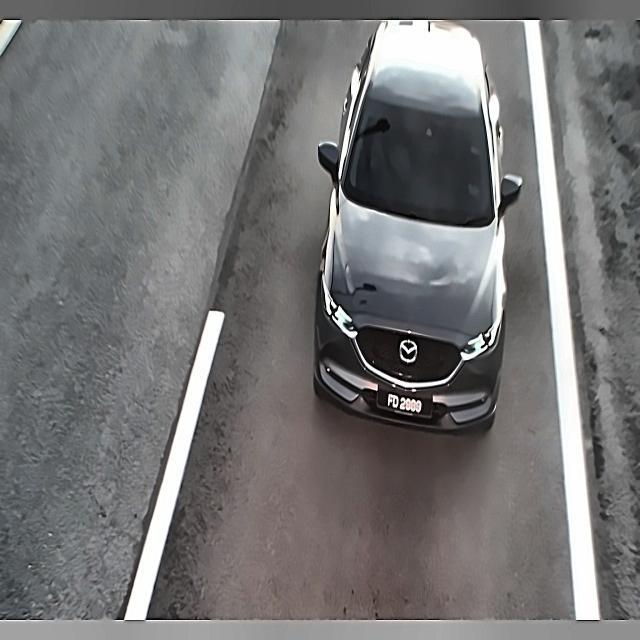car: (374, 373, 441, 428)
